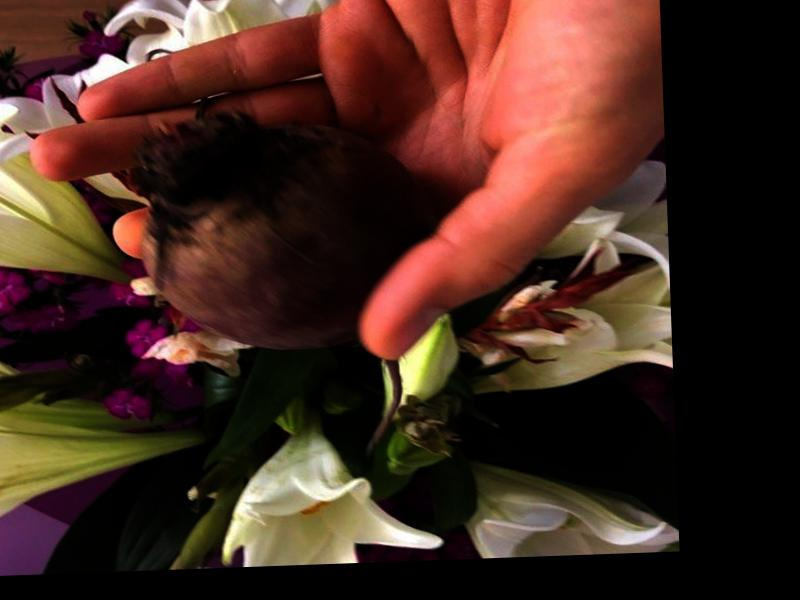Beet: (132, 114, 440, 464)
